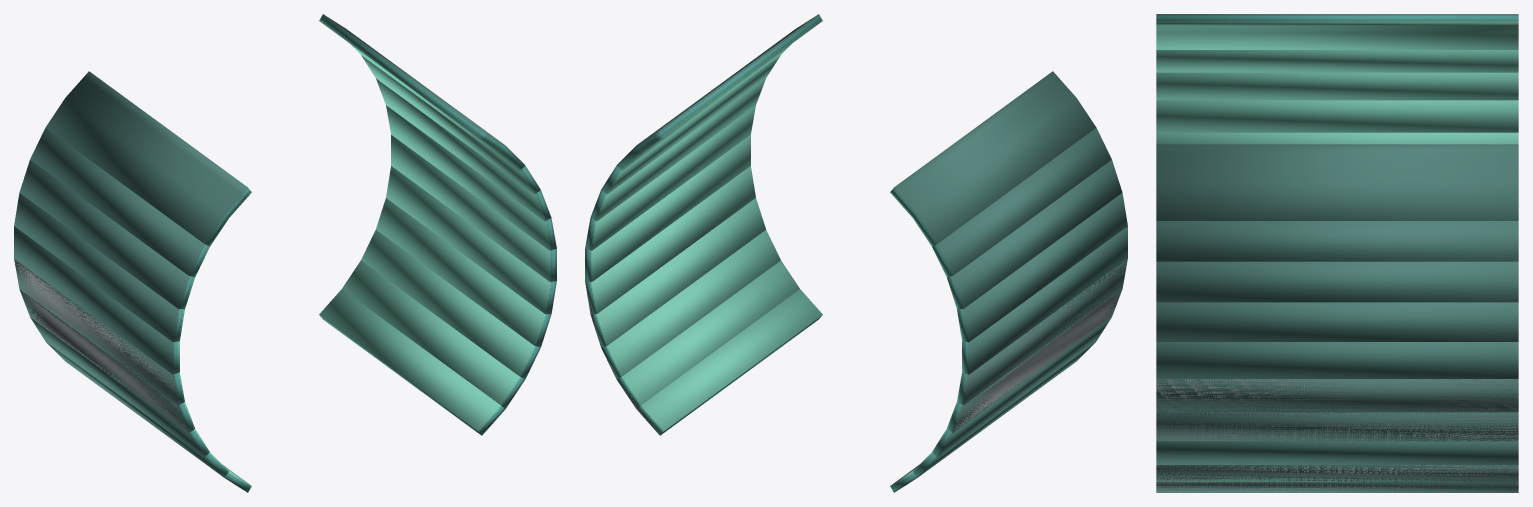
Rendered from ROCKGYM16.obj.
3 views of the same model, side by side, from view 1: azimuth 30°, elevation 25°; view 2: azimuth 150°, elevation 25°; view 3: azimuth 270°, elevation 25° (orthographic). The views are drawn at different scales.
Parts seen in each view (by area): view 1: ROCKGYM; view 2: ROCKGYM; view 3: ROCKGYM.
Part boxes in pixels (x1=…): ROCKGYM: x1=14, y1=14, x2=556, y2=492; ROCKGYM: x1=585, y1=14, x2=1127, y2=492; ROCKGYM: x1=1156, y1=14, x2=1518, y2=492.
Size of the model in its own units: 438 by 333 by 314.
2 materials, 2 textured.
